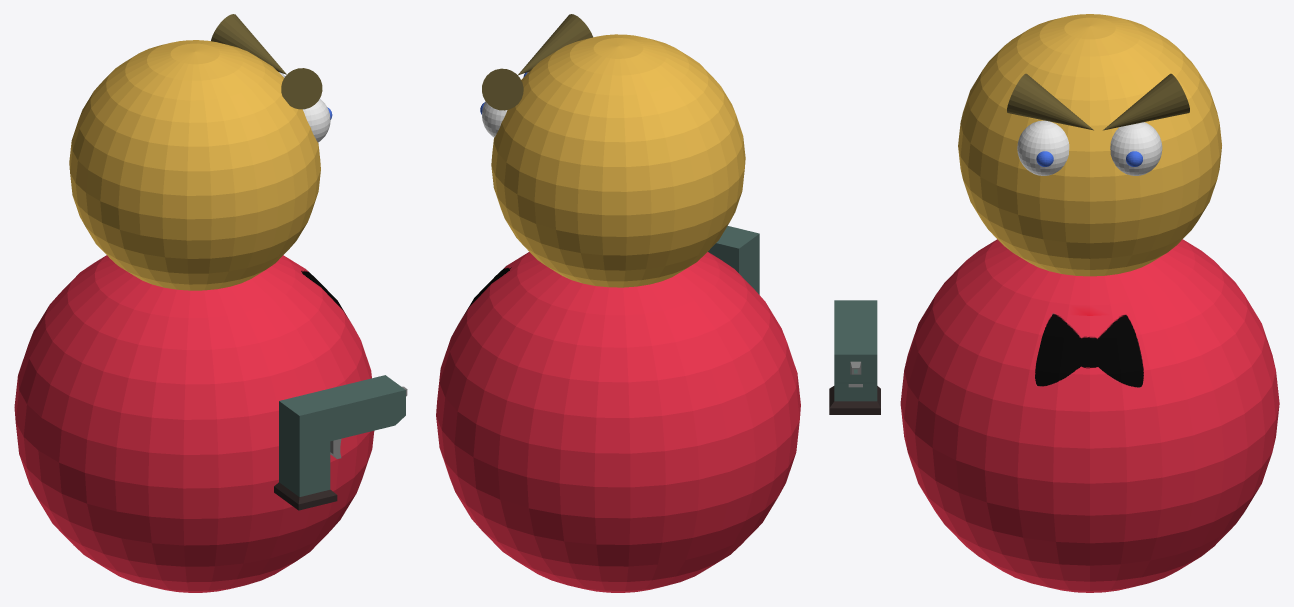
File: player01_final.fbx
3 views of the same model, side by side, from view 1: azimuth 30°, elevation 25°; view 2: azimuth 150°, elevation 25°; view 3: azimuth 270°, elevation 25° (orthographic). The views are drawn at different scales.
Parts seen in each view (by area): view 1: Sphere, Sphere.001, pistol, Cone.001, Cone, Sphere.003; view 2: Sphere, Sphere.001, pistol, Cone.001, Cone, Sphere.002; view 3: Sphere, Sphere.001, pistol, Sphere.003, Cone.001, Cone, Sphere.002.
Part boxes in pixels (x1,y1,x2,y2): Sphere: (14,255,374,592); Sphere.001: (69,40,320,290); pistol: (274,375,407,510); Cone.001: (211,14,286,74); Cone: (281,68,322,109); Sphere.003: (303,99,330,142); Sphere: (436,252,800,592); Sphere.001: (491,34,745,287); pistol: (708,226,759,294); Cone.001: (482,68,523,110); Cone: (517,14,592,75); Sphere.002: (482,101,507,137); Sphere: (900,239,1279,592); Sphere.001: (958,14,1221,276); pistol: (829,300,880,414); Sphere.003: (1017,120,1069,175); Cone.001: (1103,73,1189,130); Cone: (1007,73,1093,130); Sphere.002: (1110,122,1162,175).
Size of the model in its own units: 200 by 320 by 238.
